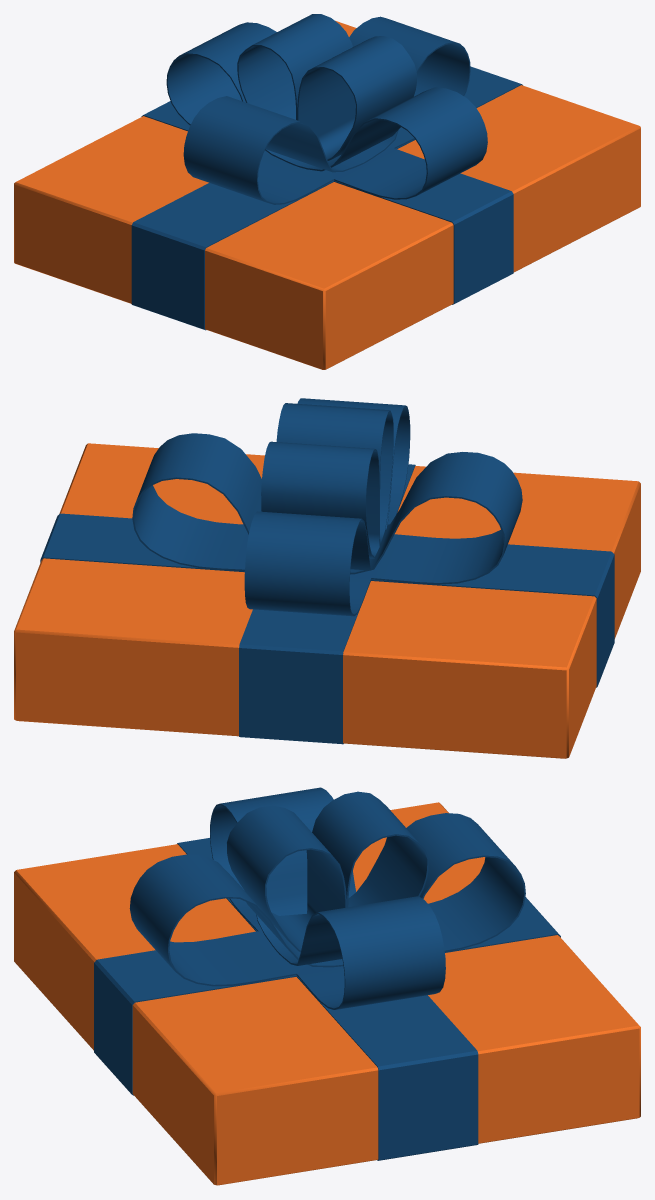
File: Present2_2.fbx
The picture shows the model from 3 angles, top to bottom: view 1: azimuth 30°, elevation 25°; view 2: azimuth 150°, elevation 25°; view 3: azimuth 270°, elevation 25°; orthographic projection. The views are drawn at different scales.
Visible parts, largest first — view 1: Present2_2; view 2: Present2_2; view 3: Present2_2.
Boxes of the visible parts, x1,y1,x2,y2 form: Present2_2: (14, 14, 640, 369); Present2_2: (14, 398, 640, 758); Present2_2: (14, 787, 640, 1185).
Bounding box in the file's own units: 0.613 × 0.2146 × 0.555.
